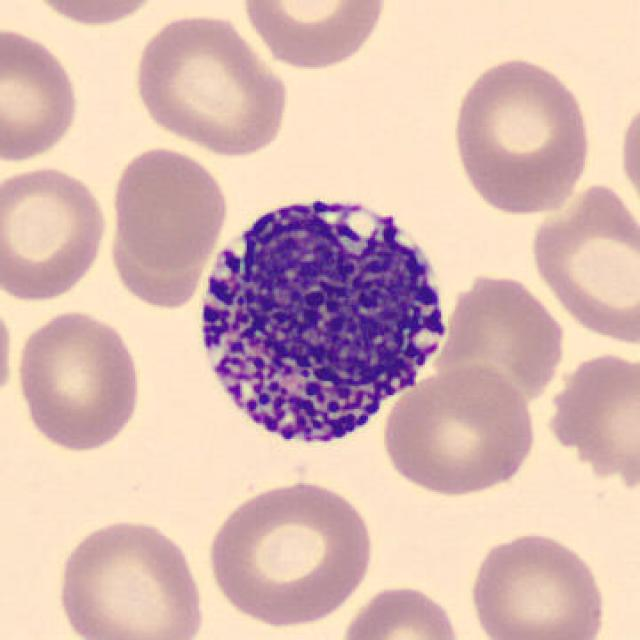Basophil: (183, 173, 466, 469)
RBC: (202, 476, 378, 629), (446, 53, 596, 219), (128, 8, 292, 158), (378, 360, 540, 499), (10, 305, 146, 455), (52, 515, 210, 640), (526, 176, 638, 349), (435, 276, 565, 415), (464, 527, 610, 640), (107, 143, 231, 273), (0, 162, 110, 305), (540, 346, 638, 499), (0, 23, 84, 164), (108, 194, 207, 312), (236, 0, 391, 72), (336, 580, 464, 640), (20, 0, 167, 28), (615, 90, 640, 217), (0, 291, 16, 409)
